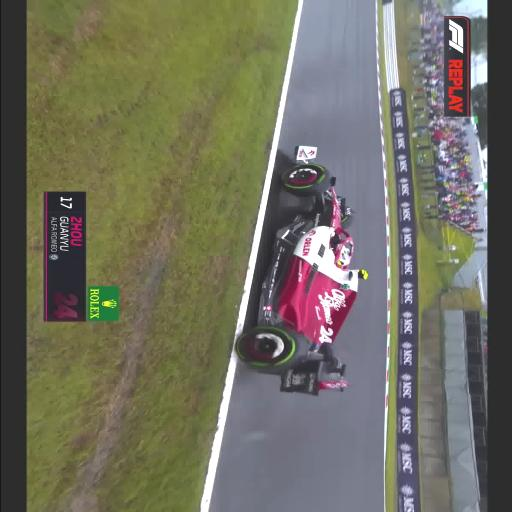f1_car: (236, 145, 367, 395)
